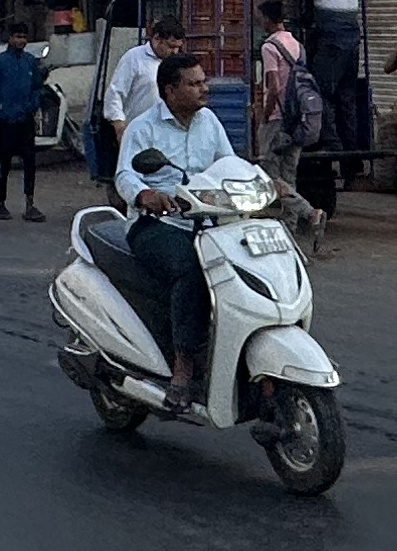BikeWithRider: (41, 44, 355, 502)
NoHelmet: (149, 50, 216, 117)
